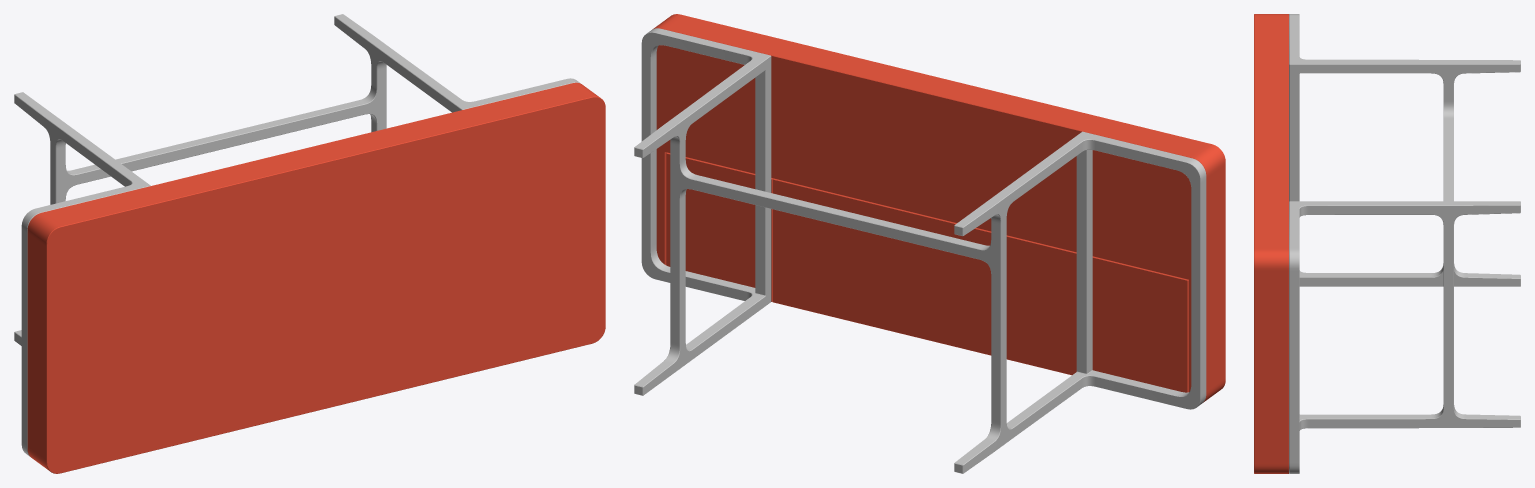
Rendered from Lema_Victor_Desk_mat(2).obj.
3 renders of one model, left to right at view 1: azimuth 30°, elevation 25°; view 2: azimuth 150°, elevation 25°; view 3: azimuth 270°, elevation 25°, orthographic. The views are drawn at different scales.
Parts seen in each view (by area): view 1: Lema_Victor_Desk_mat2; view 2: Lema_Victor_Desk_mat2; view 3: Lema_Victor_Desk_mat2.
Boxes of the visible parts, bbox=[...] form: Lema_Victor_Desk_mat2: bbox=[14, 14, 605, 473]; Lema_Victor_Desk_mat2: bbox=[634, 14, 1225, 473]; Lema_Victor_Desk_mat2: bbox=[1254, 14, 1520, 473].
Bounding box in the file's own units: 166 × 70 × 76.
